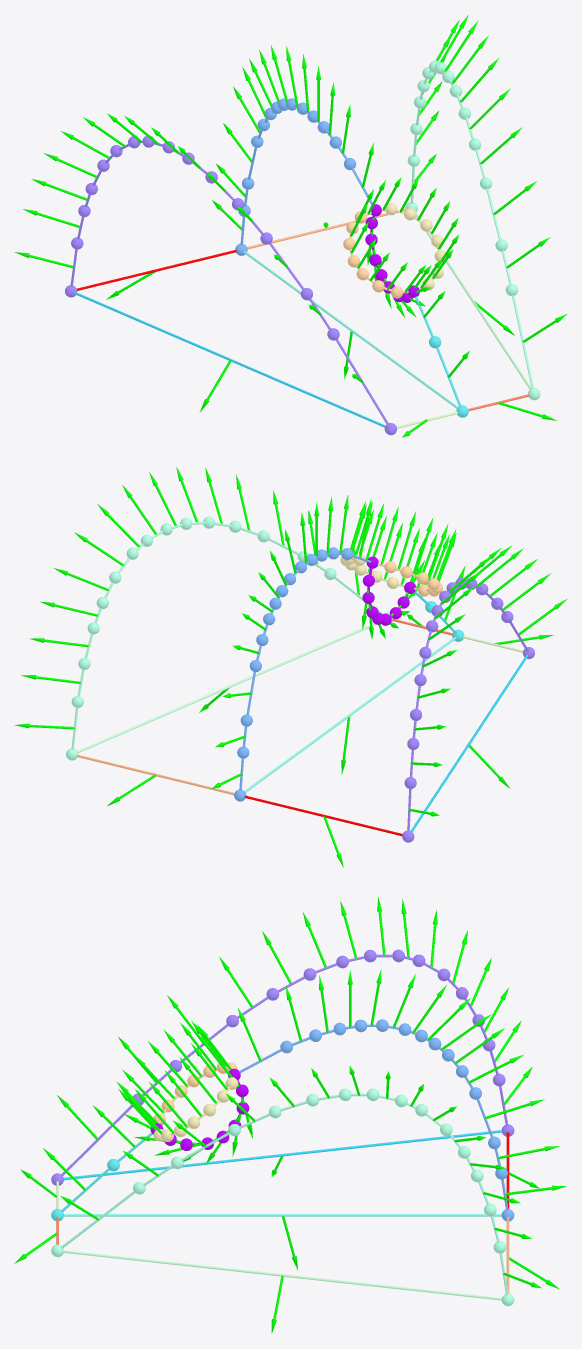
File: onshape_simple_mouse.gltf
3 renders of one model, top to bottom at view 1: azimuth 30°, elevation 25°; view 2: azimuth 150°, elevation 25°; view 3: azimuth 270°, elevation 25°, orthographic. The views are drawn at different scales.
Size of the model in its own units: 0.7875 by 0.5234 by 0.8679.
